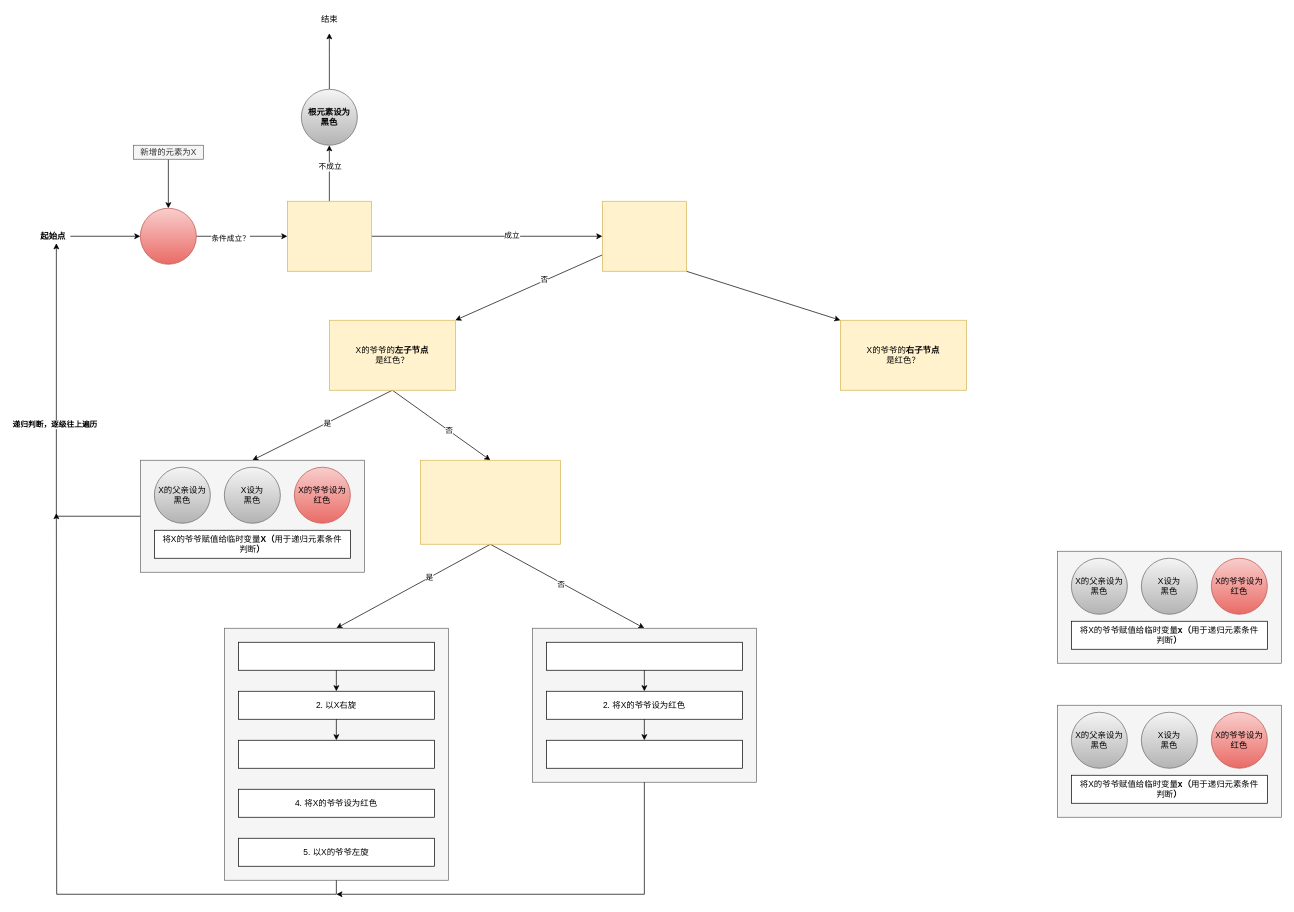
The diagram is 1294 pixels wide and 912 high, and some of its shapes have lost their labels. Here are the shapes that lost their labels. From the top down, the centre of each, then its label:
point (168, 236): X默认红色
point (329, 236): X不为空 X不是根元素 X的父节点是红色
point (644, 236): X的父亲是X的爷爷的左子节点？
point (490, 502): X是它父亲的左子节点？
point (336, 656): 1. X的父亲元素赋值给X
point (644, 656): 1. 将X的父亲设为黑色
point (336, 754): 3. 将X的父亲设为黑色
point (644, 754): 3. 以X的爷爷左旋
